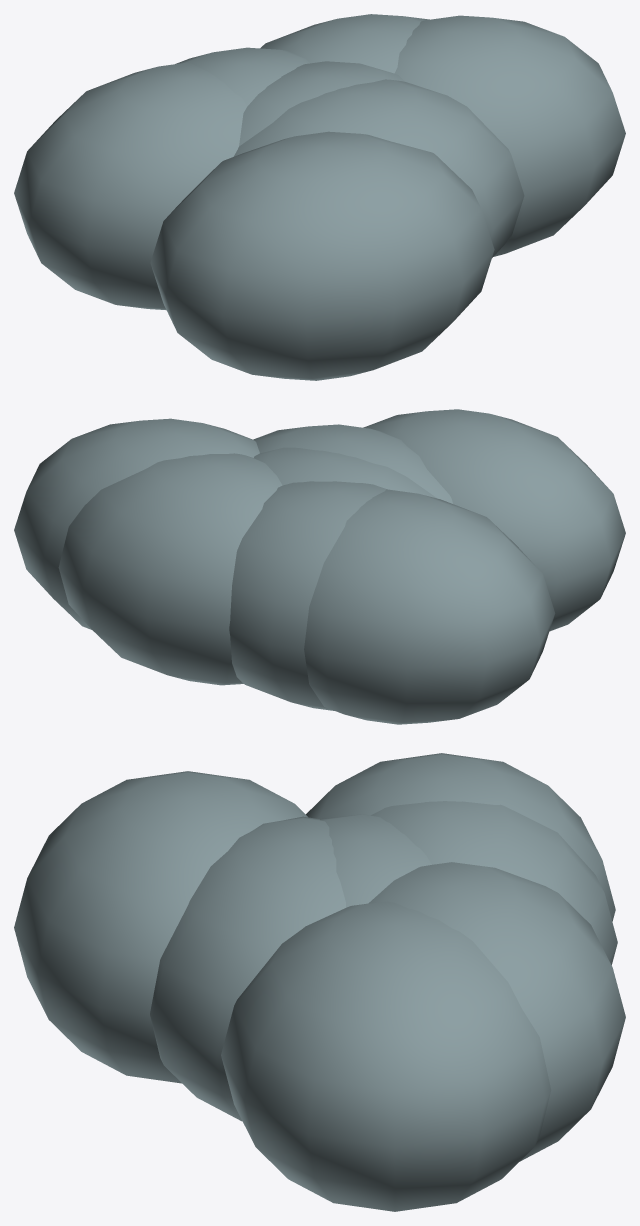
File: reef-limestone.glb
The picture shows the model from 3 angles, top to bottom: view 1: azimuth 30°, elevation 25°; view 2: azimuth 150°, elevation 25°; view 3: azimuth 270°, elevation 25°; orthographic projection. The views are drawn at different scales.
Visible parts, largest first — view 1: reef-limestone; view 2: reef-limestone; view 3: reef-limestone.
Boxes of the visible parts, x1,y1,x2,y2 form: reef-limestone: (14, 14, 625, 380); reef-limestone: (14, 409, 625, 724); reef-limestone: (14, 753, 625, 1211).
Bounding box in the file's own units: 1.25 × 0.46 × 0.9845.
